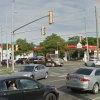Traffic light: (42, 8, 62, 36)
